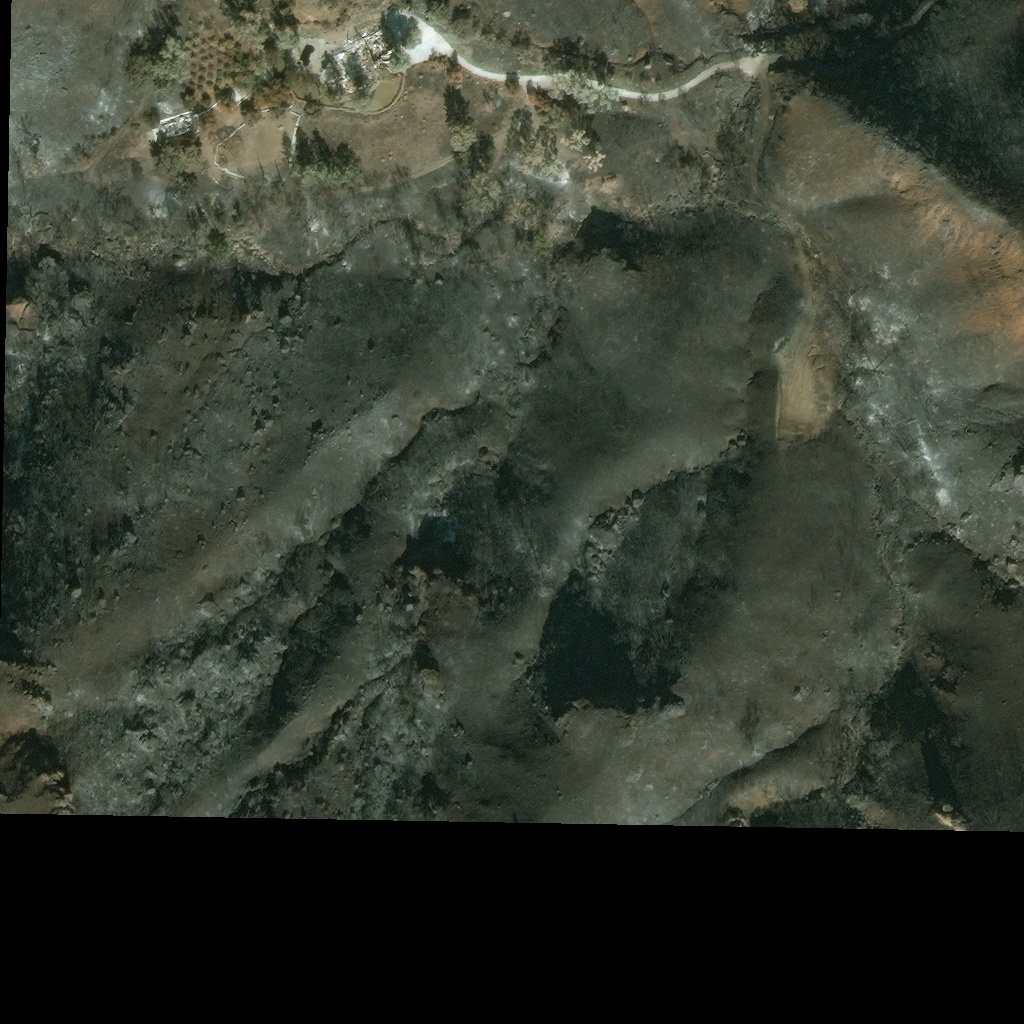3 destroyed: (320, 24, 400, 99), (162, 111, 196, 137), (197, 193, 221, 214)
